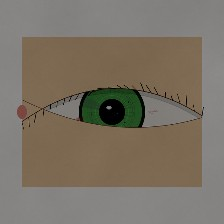hemorrhage_spot: (72, 76, 141, 132)
